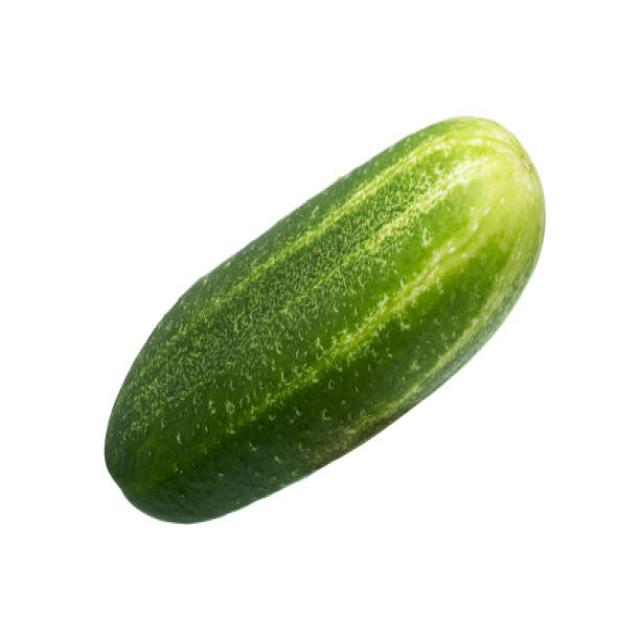cucumber: (104, 116, 545, 525)
